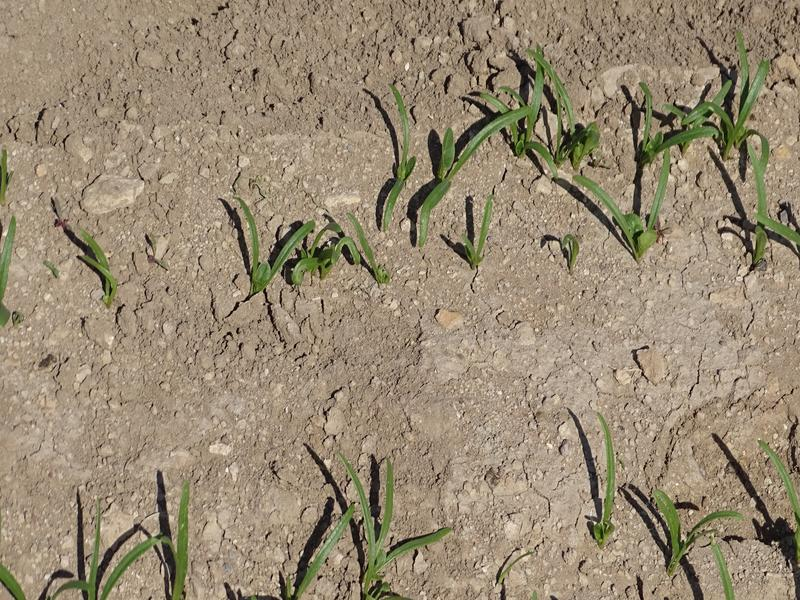Espinaca: (371, 63, 600, 258), (616, 61, 800, 262), (300, 444, 440, 597), (43, 482, 193, 599), (233, 210, 385, 291), (645, 487, 749, 597), (586, 416, 628, 530), (82, 228, 124, 305), (764, 440, 800, 507)
